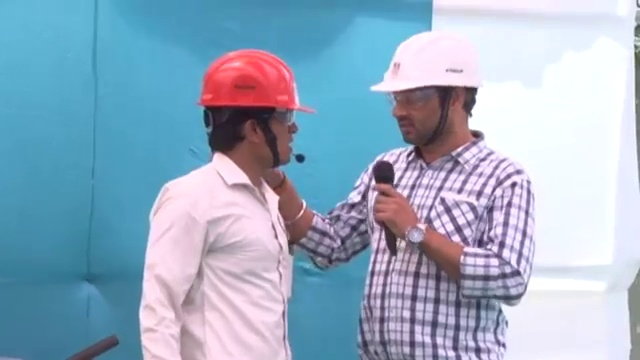helmet: (195, 46, 317, 115), (367, 29, 489, 92)
helmet_on: (192, 45, 318, 191), (363, 28, 488, 158)
person: (275, 30, 538, 360), (136, 48, 320, 360)
